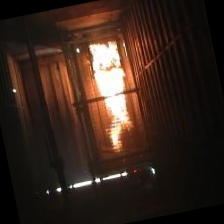fire: (84, 36, 147, 157)
